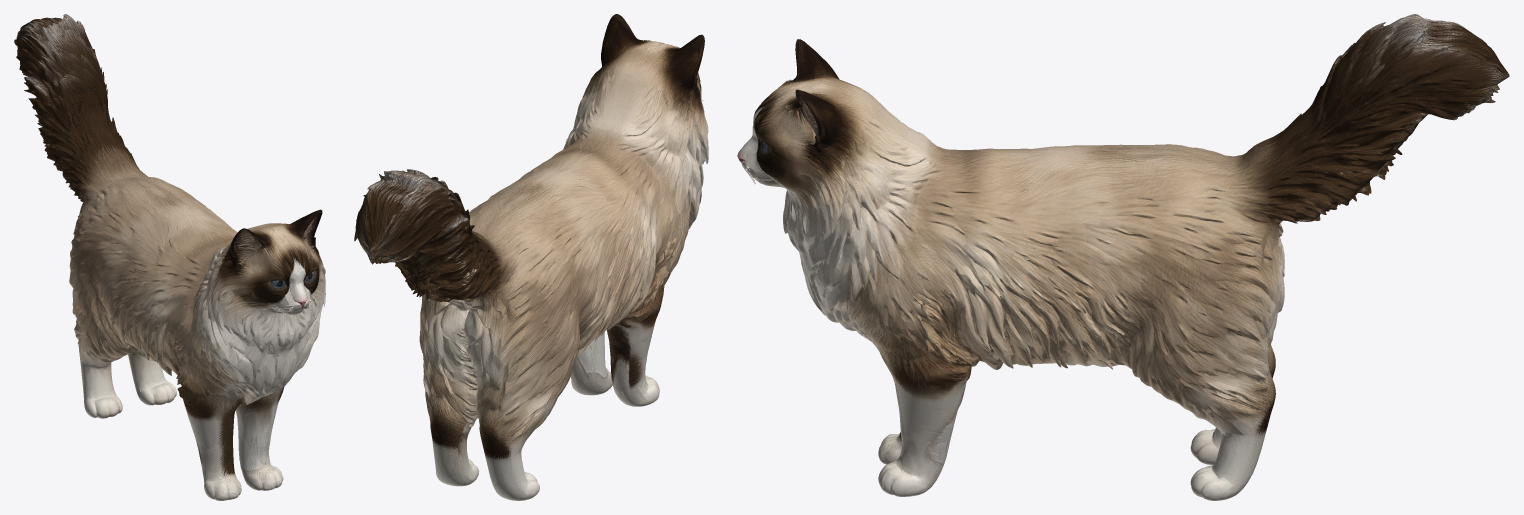
The model's file is mochi-longhair.glb.
3 views of the same model, side by side, from view 1: azimuth 30°, elevation 25°; view 2: azimuth 150°, elevation 25°; view 3: azimuth 270°, elevation 25° (orthographic). The views are drawn at different scales.
Parts seen in each view (by area): view 1: Mesh_0; view 2: Mesh_0; view 3: Mesh_0.
Boxes of the visible parts, x1,y1,x2,y2 form: Mesh_0: [14, 14, 325, 500]; Mesh_0: [354, 14, 708, 500]; Mesh_0: [737, 14, 1509, 500].
Bounding box in the file's own units: 0.506 × 1.24 × 1.9.
Materials: 1 (1 with a texture image).
